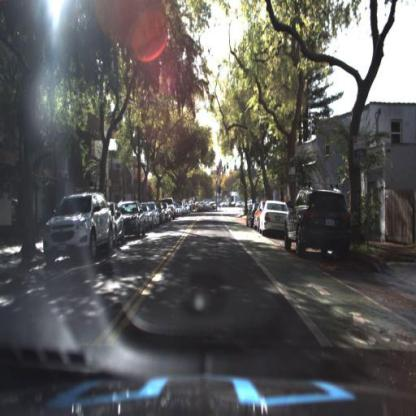car: (43, 190, 112, 264), (285, 184, 354, 256), (282, 186, 352, 255), (260, 196, 290, 238), (104, 198, 126, 254), (117, 198, 145, 238), (260, 197, 288, 235)
